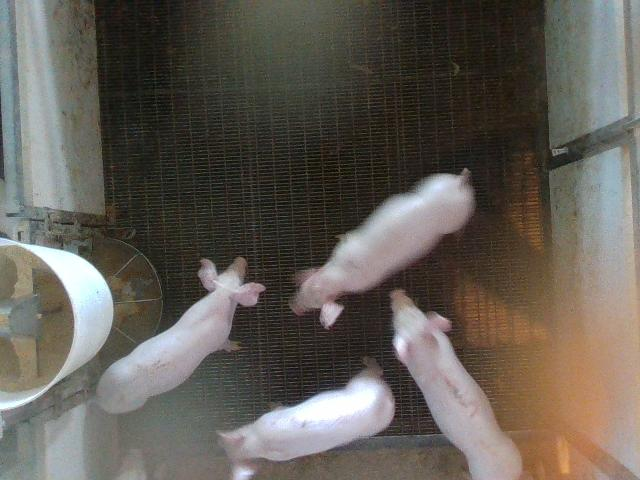pig-3: (393, 291, 522, 478)
